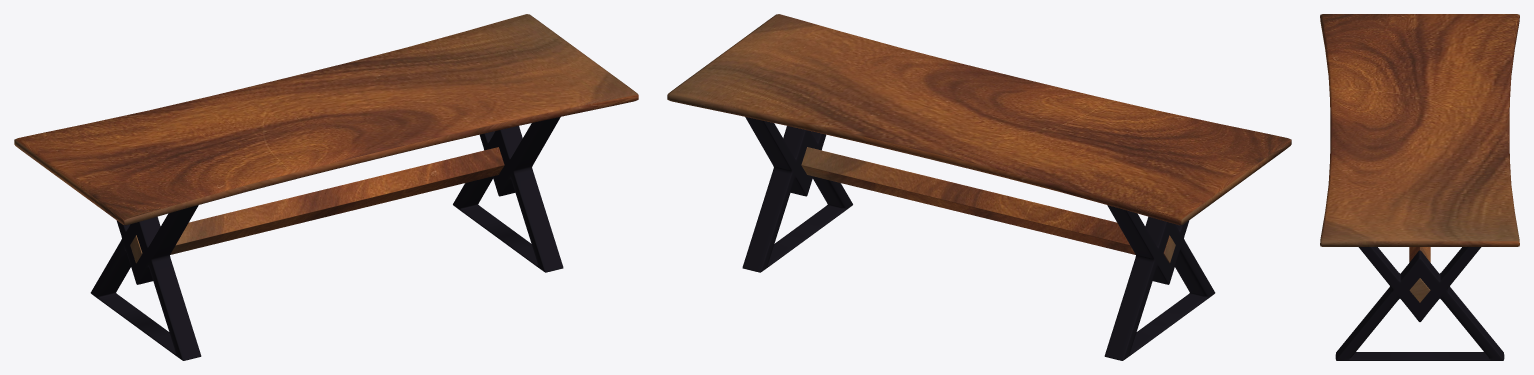
File: TABLE1.fbx
The picture shows the model from 3 angles, left to right: view 1: azimuth 30°, elevation 25°; view 2: azimuth 150°, elevation 25°; view 3: azimuth 270°, elevation 25°; orthographic projection. The views are drawn at different scales.
Parts seen in each view (by area): view 1: Cube.002; view 2: Cube.002; view 3: Cube.002.
Part boxes in pixels (x1,y1,x2,y2): Cube.002: (14, 14, 638, 360); Cube.002: (667, 14, 1291, 360); Cube.002: (1320, 14, 1519, 360).
Bounding box in the file's own units: 274 × 84.82 × 102.
Materials: 2 (1 with a texture image).
